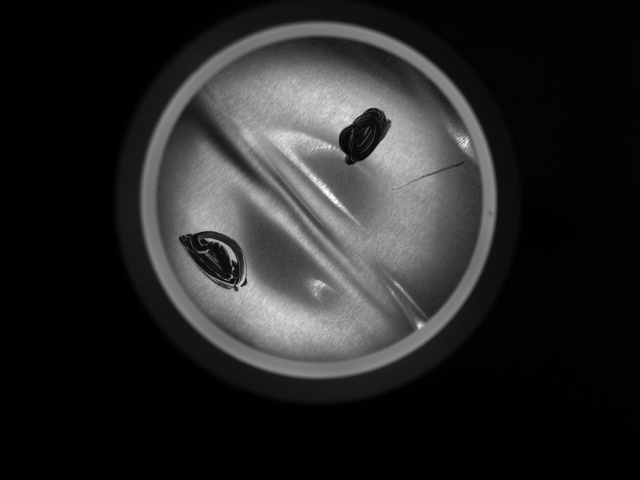ca_shang: (390, 161, 469, 191)
zang_wu: (176, 228, 257, 292), (338, 105, 394, 170)
zhe_zhou: (198, 64, 436, 334)
